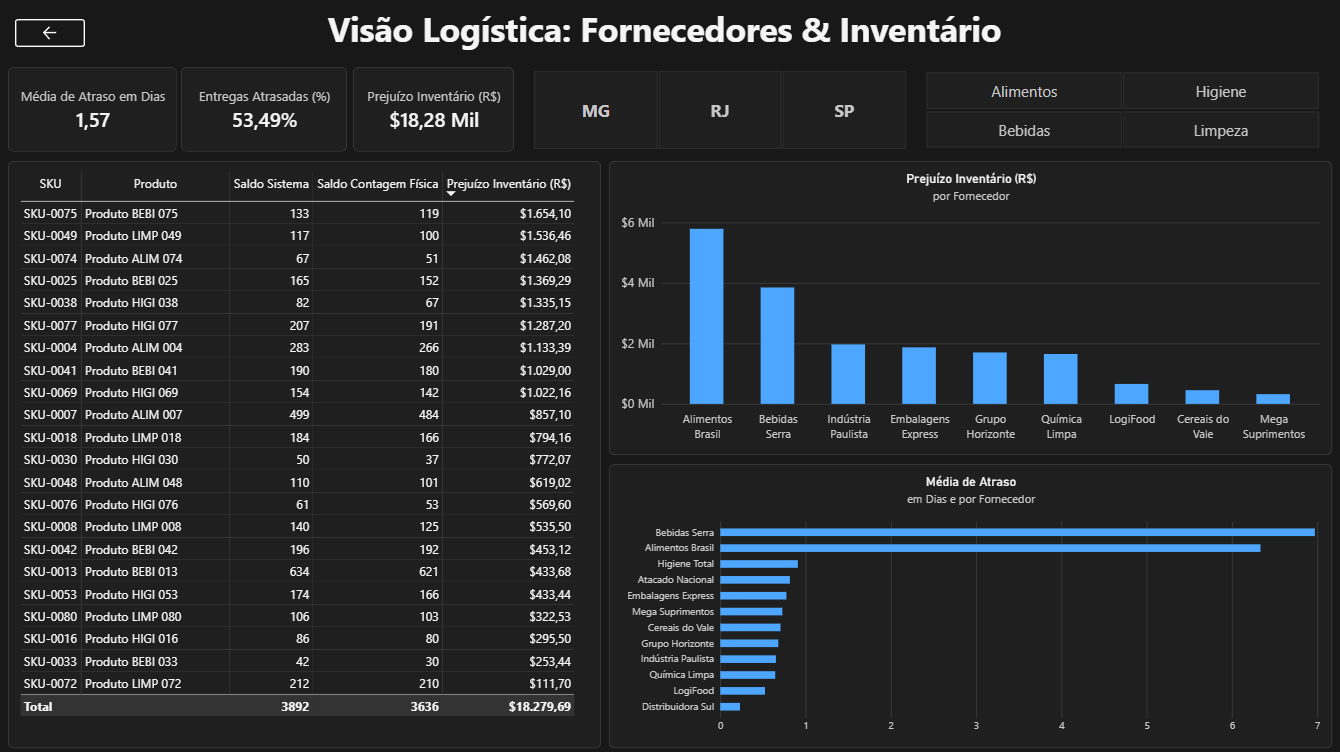

The dashboard page shown, as its layout file describes it:
{"tool":"powerbi","page":{"name":"Logística, Fornecedores & Inventário","canvas":[1920,1080],"ordinal":1},"visuals":[{"type":"cardVisual","fields":{"Data":["_Medidas.Média Atraso Dias"]},"box":[13.6,16.3,625.9,140.2],"z":0},{"type":"cardVisual","fields":{"Data":["_Medidas.% Entregas Atrasadas"]},"box":[649.1,16.3,623.2,140.2],"z":1},{"type":"cardVisual","fields":{"Data":["_Medidas.Prejuízo Inventário R$"]},"box":[1283.2,16.3,621.9,140.2],"z":2},{"type":"clusteredBarChart","fields":{"Category":["dFornecedores.nome_fornecedor"],"Y":["_Medidas.Média Atraso Dias"]},"box":[747,611,1158,458.6],"z":3},{"type":"clusteredColumnChart","fields":{"Category":["dFornecedores.nome_fornecedor"],"Y":["_Medidas.Prejuízo Inventário R$"]},"box":[747,166,1158,434.1],"z":4},{"type":"tableEx","fields":{"Values":["dProdutos.id_sku","dProdutos.nome_produto","Sum(fInventario.saldo_sistema)","Sum(fInventario.contagem_fisica)","_Medidas.Prejuízo Inventário R$"]},"box":[13.6,166,723.9,903.5],"z":5}]}

Visuals, with their boxes in screenshot pixels (x1, y1, x2, y2), scaled from the page's 1920x1080 canvas onto the 1340x752 screenshot:
cardVisual - _Medidas.Média Atraso Dias: rect(9, 11, 446, 109)
cardVisual - _Medidas.% Entregas Atrasadas: rect(453, 11, 888, 109)
cardVisual - _Medidas.Prejuízo Inventário R$: rect(896, 11, 1330, 109)
clusteredBarChart - dFornecedores.nome_fornecedor x _Medidas.Média Atraso Dias: rect(521, 425, 1330, 745)
clusteredColumnChart - dFornecedores.nome_fornecedor x _Medidas.Prejuízo Inventário R$: rect(521, 116, 1330, 418)
tableEx - dProdutos.id_sku x dProdutos.nome_produto: rect(9, 116, 515, 745)
